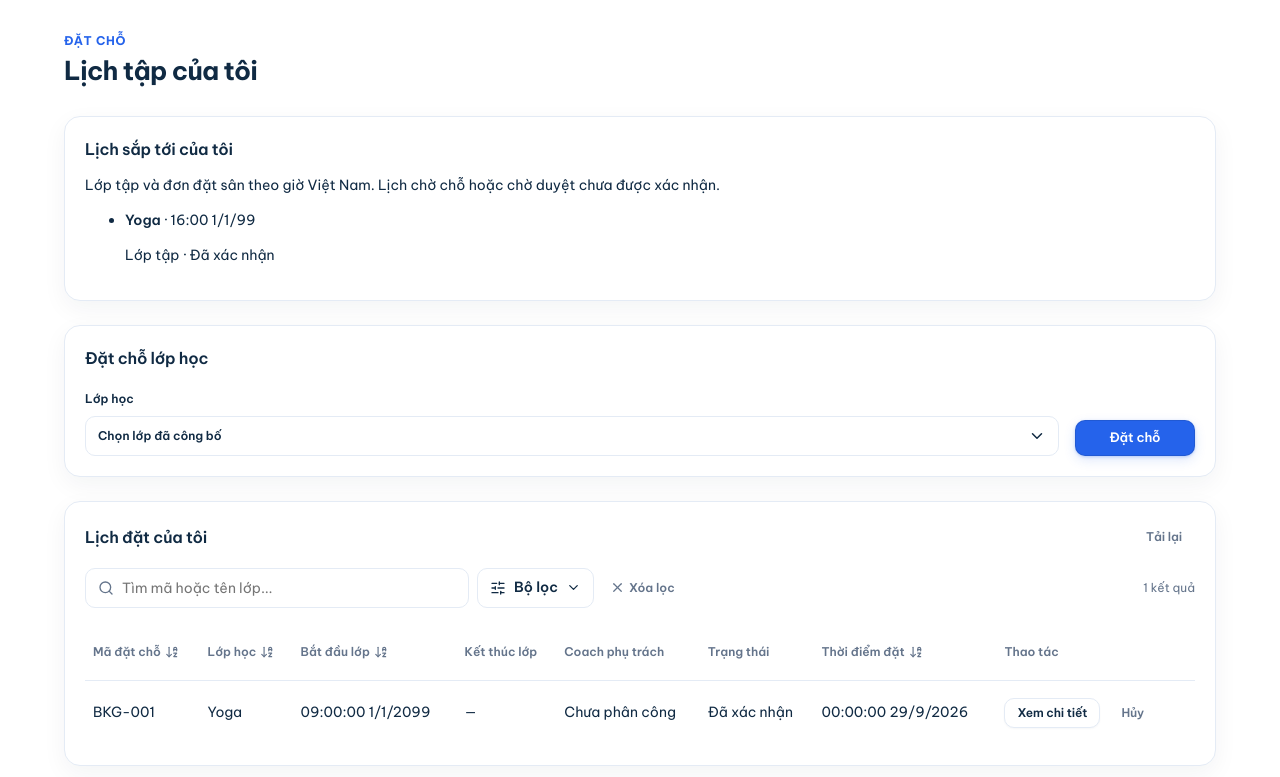
Scenario: BookingsPage › reports promotion accurately after cancelling a booking (null)
Step 1. Click the button "Hủy" → (1133, 713), box [1108,698,1157,728]
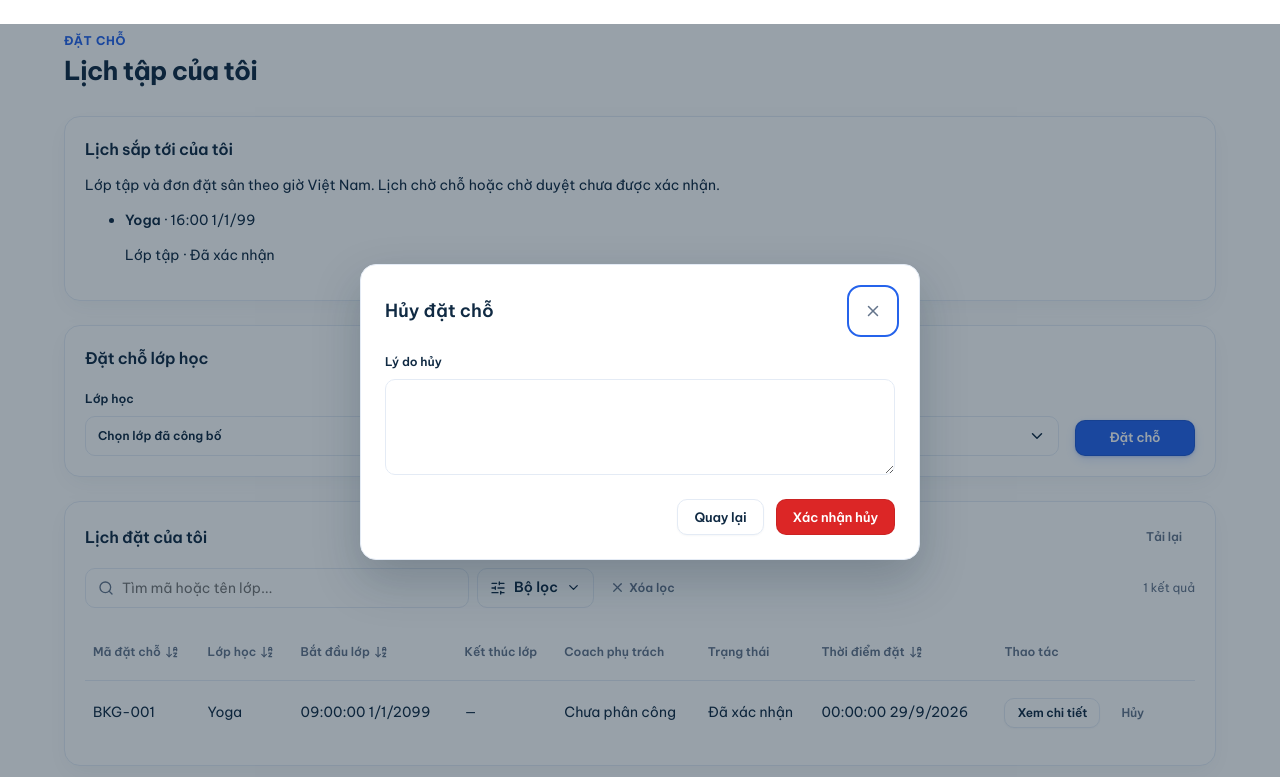
Step 2. Type "Kiểm thử QA" into the text box labelled "Lý do hủy" → (640, 427), box [385,379,895,475]
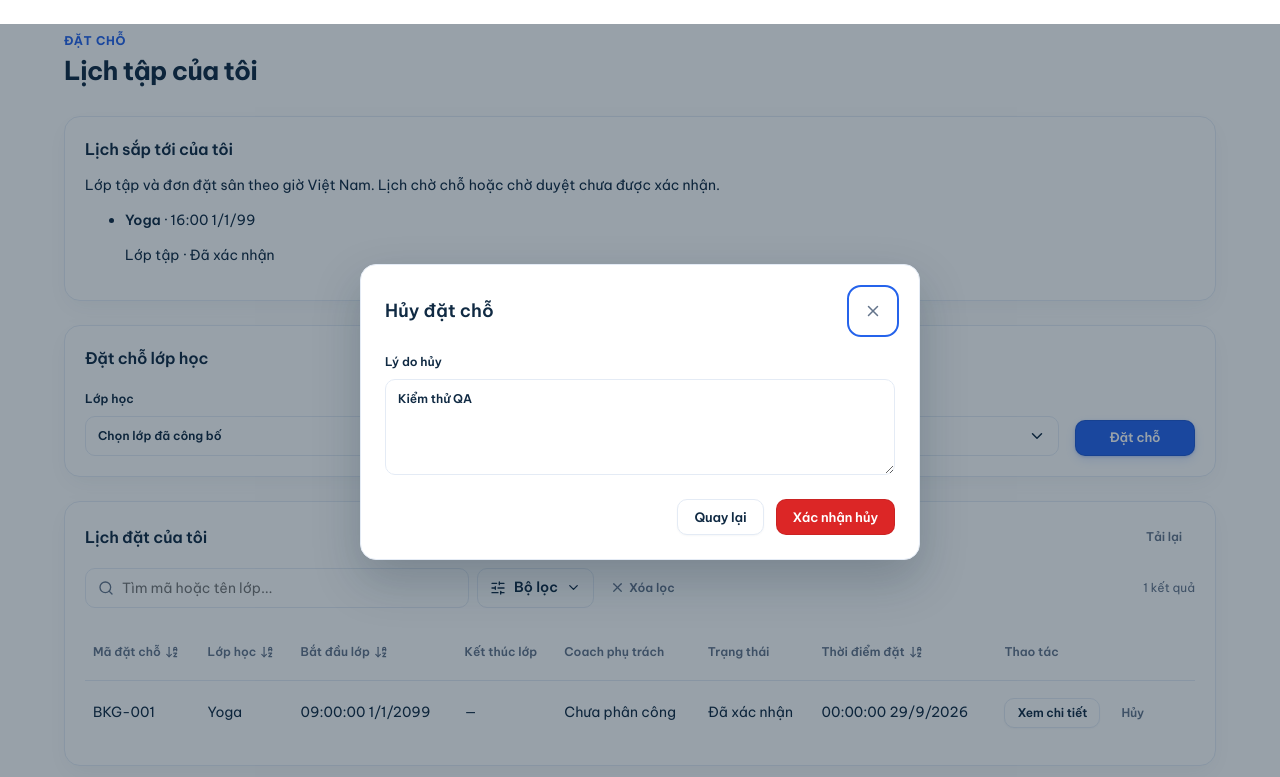
Step 3. Click the button "Xác nhận hủy" → (835, 517), box [776,499,895,535]
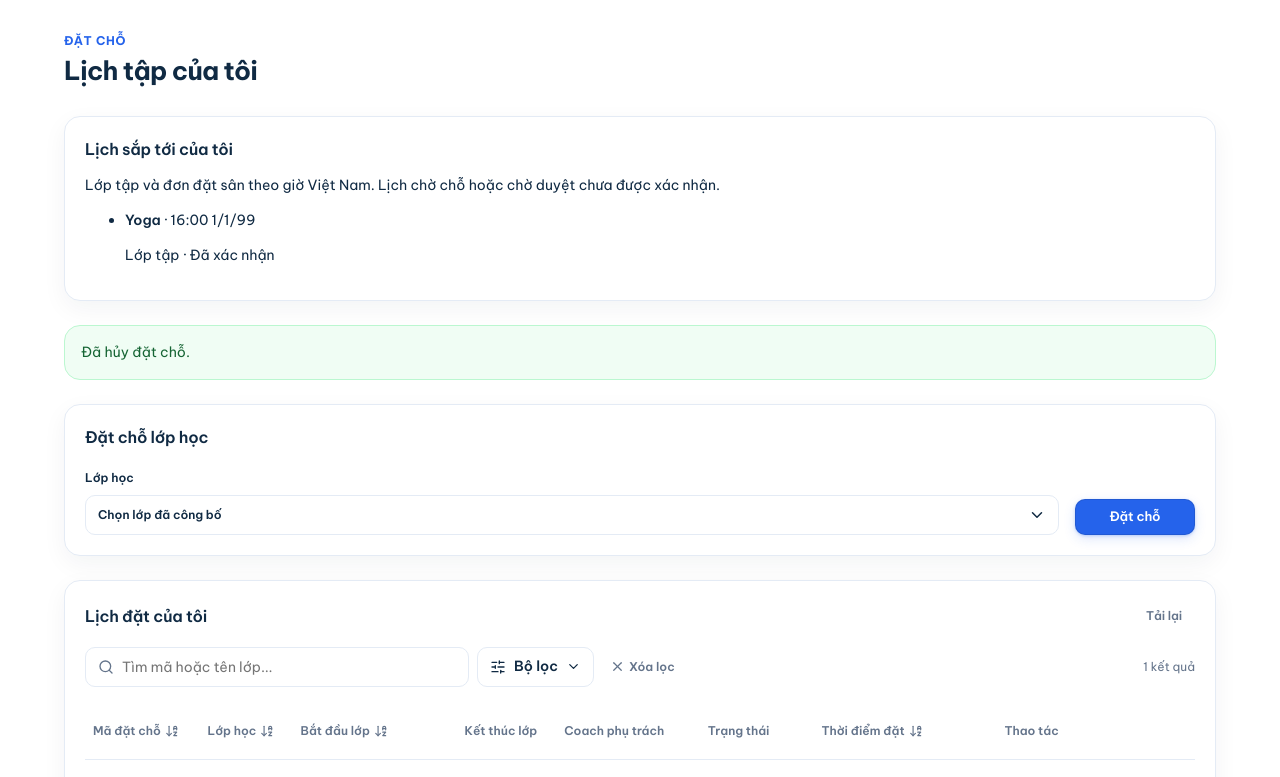
Now the message reads "Đã hủy đặt chỗ.", box [81,343,190,361]
